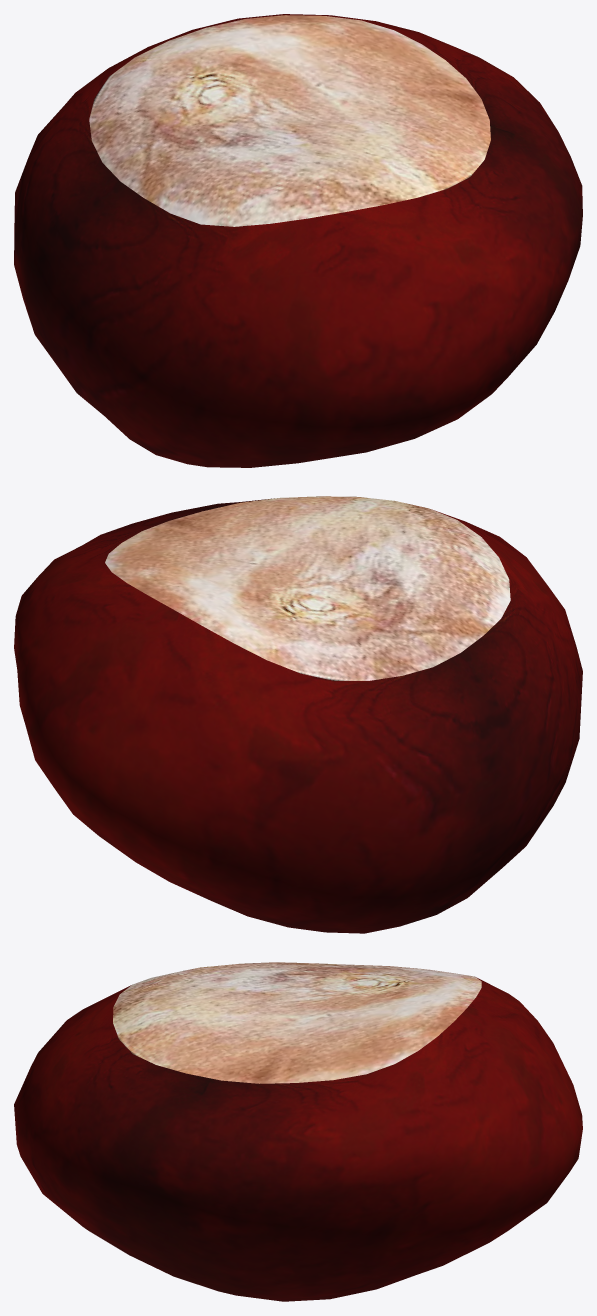
The model's file is BrowVegetablaChestnut.fbx.
3 renders of one model, top to bottom at view 1: azimuth 30°, elevation 25°; view 2: azimuth 150°, elevation 25°; view 3: azimuth 270°, elevation 25°, orthographic. The views are drawn at different scales.
Parts seen in each view (by area): view 1: Chestnut; view 2: Chestnut; view 3: Chestnut.
Part boxes in pixels (box(x1,y1,x2,y2)): Chestnut: box(14, 14, 582, 467); Chestnut: box(14, 496, 582, 933); Chestnut: box(14, 962, 582, 1301).
Size of the model in its own units: 0.044 by 0.0507 by 0.0296.
Materials: 1 (1 with a texture image).
